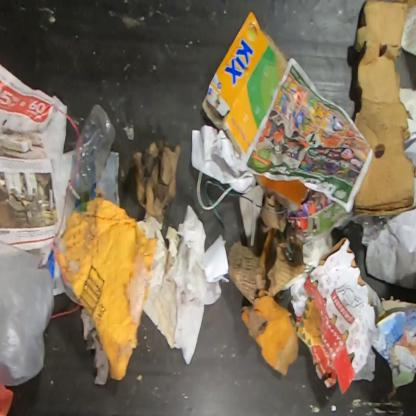cardboard: (55, 196, 159, 381), (290, 237, 380, 395), (351, 0, 415, 219), (200, 11, 290, 162), (227, 174, 307, 307), (241, 295, 325, 377), (129, 139, 183, 222)
rigid_plastic: (65, 103, 117, 205)
soft_plastic: (0, 243, 58, 388)
